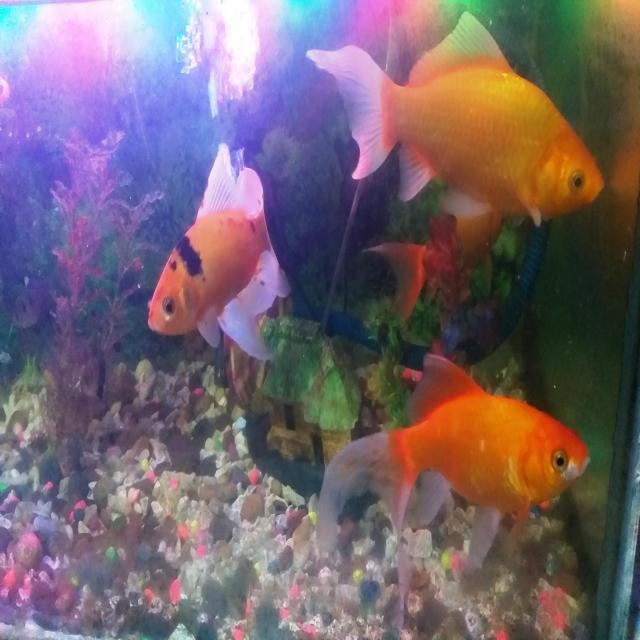GoldFish: (308, 8, 608, 232), (317, 356, 594, 549), (145, 151, 289, 357)
